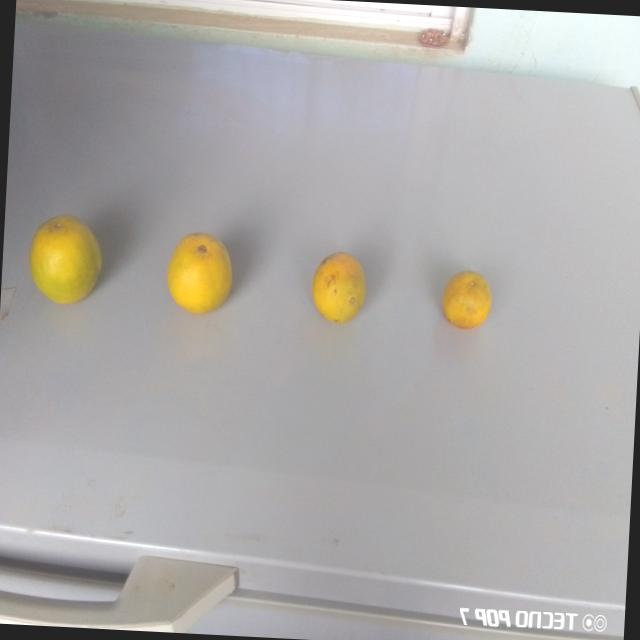Ripe orange: (23, 210, 106, 312), (167, 226, 239, 321), (306, 250, 372, 328), (436, 264, 498, 332)
